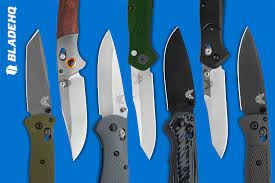knife: (92, 28, 131, 183), (161, 25, 199, 183), (235, 25, 272, 183), (126, 1, 161, 161), (55, 1, 89, 165), (23, 27, 57, 183), (198, 1, 231, 160)
